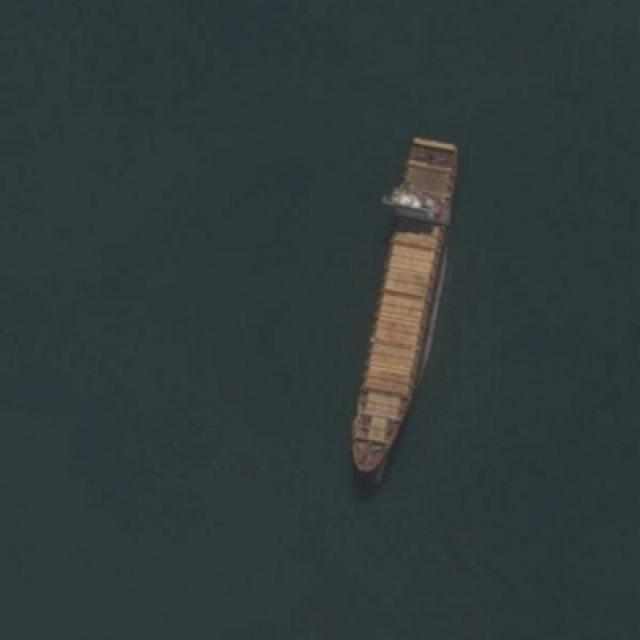boat: (345, 134, 460, 476)
